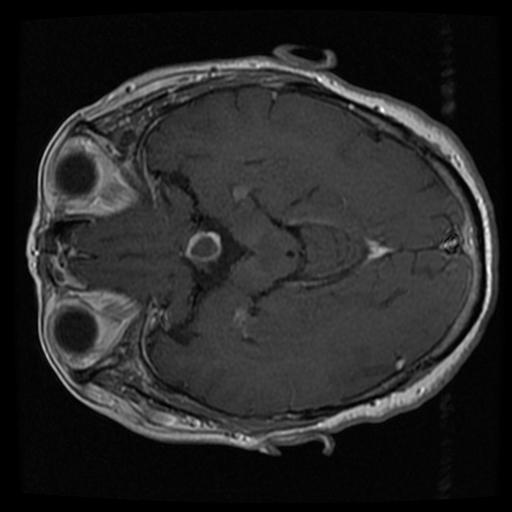pituitary tumour: (184, 231, 221, 263)
